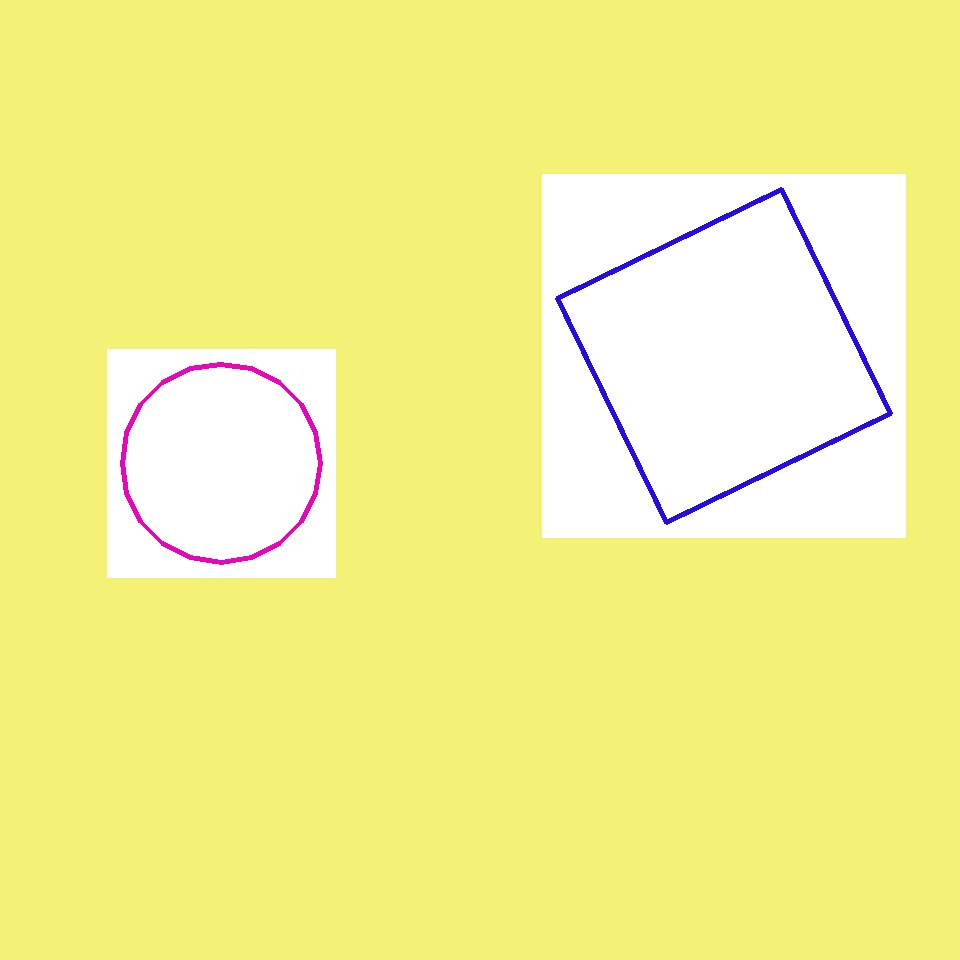square: (558, 190, 890, 522), (114, 180, 398, 464), (392, 586, 652, 844), (544, 478, 792, 725), (366, 576, 506, 714)
triangle: (122, 364, 320, 562), (400, 300, 576, 476), (382, 38, 520, 174)
